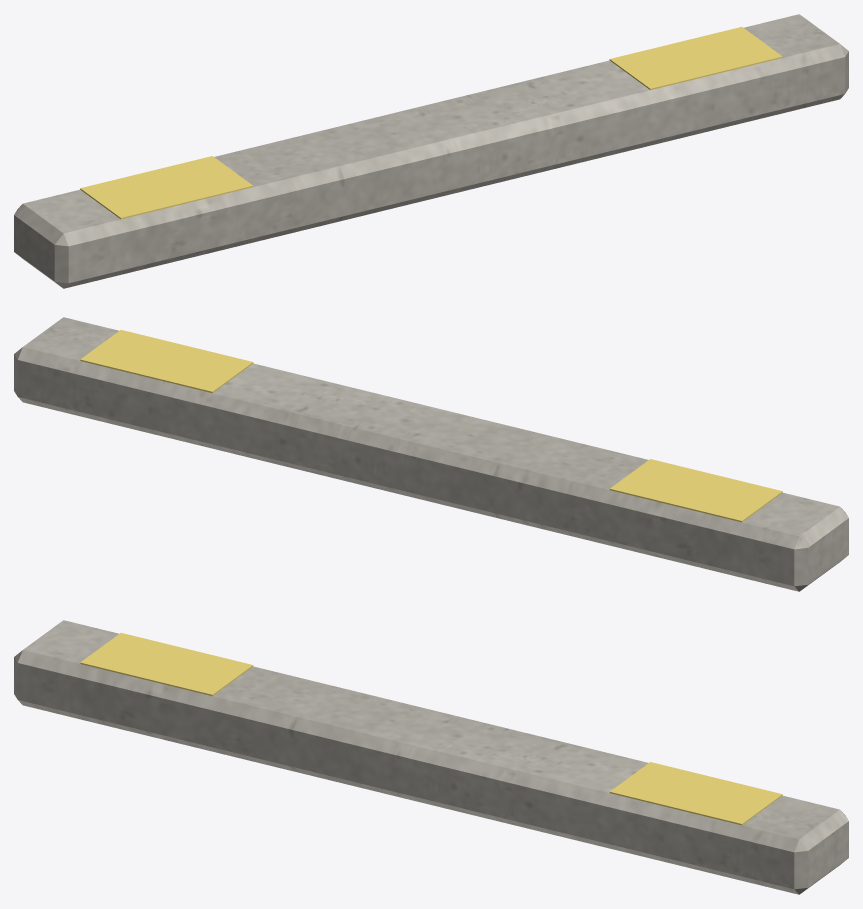
The model's file is wheel_stop.glb.
3 views of the same model, one above another, from view 1: azimuth 30°, elevation 25°; view 2: azimuth 150°, elevation 25°; view 3: azimuth 330°, elevation 25° (orthographic).
Parts seen in each view (by area): view 1: wheel_stop_concrete, wheel_stop_paint_y; view 2: wheel_stop_concrete, wheel_stop_paint_y; view 3: wheel_stop_concrete, wheel_stop_paint_y.
Boxes of the visible parts, x1,y1,x2,y2 form: wheel_stop_concrete: (14, 14, 848, 288); wheel_stop_paint_y: (80, 27, 782, 219); wheel_stop_concrete: (14, 317, 848, 591); wheel_stop_paint_y: (80, 330, 782, 522); wheel_stop_concrete: (14, 620, 848, 894); wheel_stop_paint_y: (80, 633, 782, 825).
Size of the model in its own units: 1.8 by 0.123 by 0.2.
2 materials, 1 textured.
